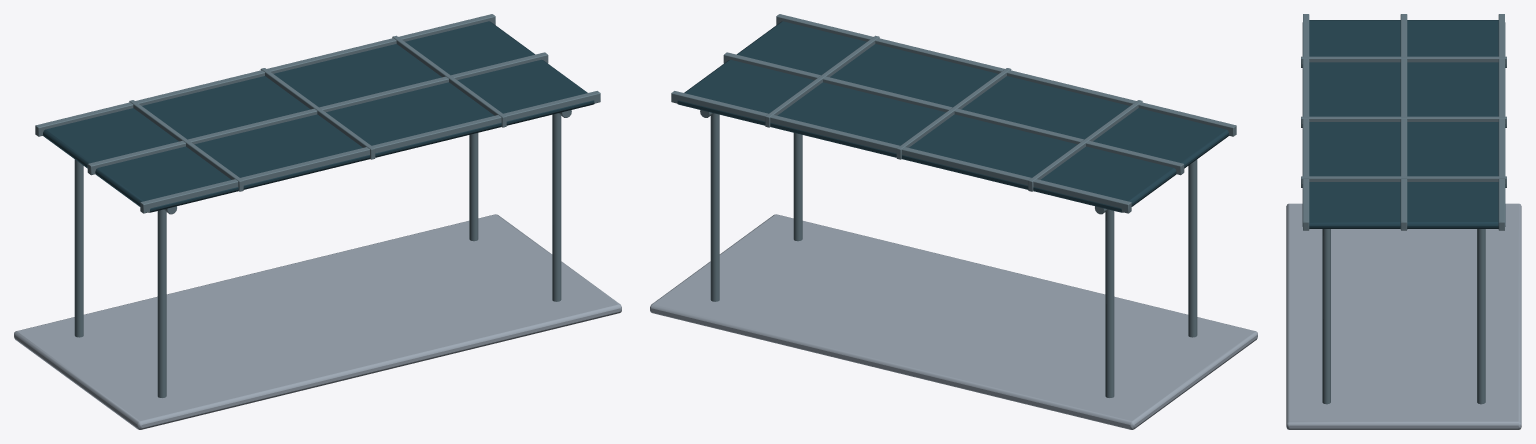
The model's file is station_canopy.glb.
3 views of the same model, side by side, from view 1: azimuth 30°, elevation 25°; view 2: azimuth 150°, elevation 25°; view 3: azimuth 270°, elevation 25° (orthographic). The views are drawn at different scales.
Parts seen in each view (by area): view 1: Detail.station_canopy.Stone, Detail.station_canopy.Glass, Detail.station_canopy.Metal; view 2: Detail.station_canopy.Stone, Detail.station_canopy.Glass, Detail.station_canopy.Metal; view 3: Detail.station_canopy.Stone, Detail.station_canopy.Glass, Detail.station_canopy.Metal.
Boxes of the visible parts, x1,y1,x2,y2 form: Detail.station_canopy.Stone: (14, 214, 621, 429); Detail.station_canopy.Glass: (43, 21, 594, 212); Detail.station_canopy.Metal: (35, 14, 600, 397); Detail.station_canopy.Stone: (650, 214, 1257, 429); Detail.station_canopy.Glass: (677, 21, 1228, 212); Detail.station_canopy.Metal: (671, 14, 1236, 397); Detail.station_canopy.Stone: (1286, 203, 1521, 429); Detail.station_canopy.Glass: (1302, 20, 1505, 228); Detail.station_canopy.Metal: (1301, 14, 1506, 404).
Bounding box in the file's own units: 8.1 × 3.49 × 3.65.
